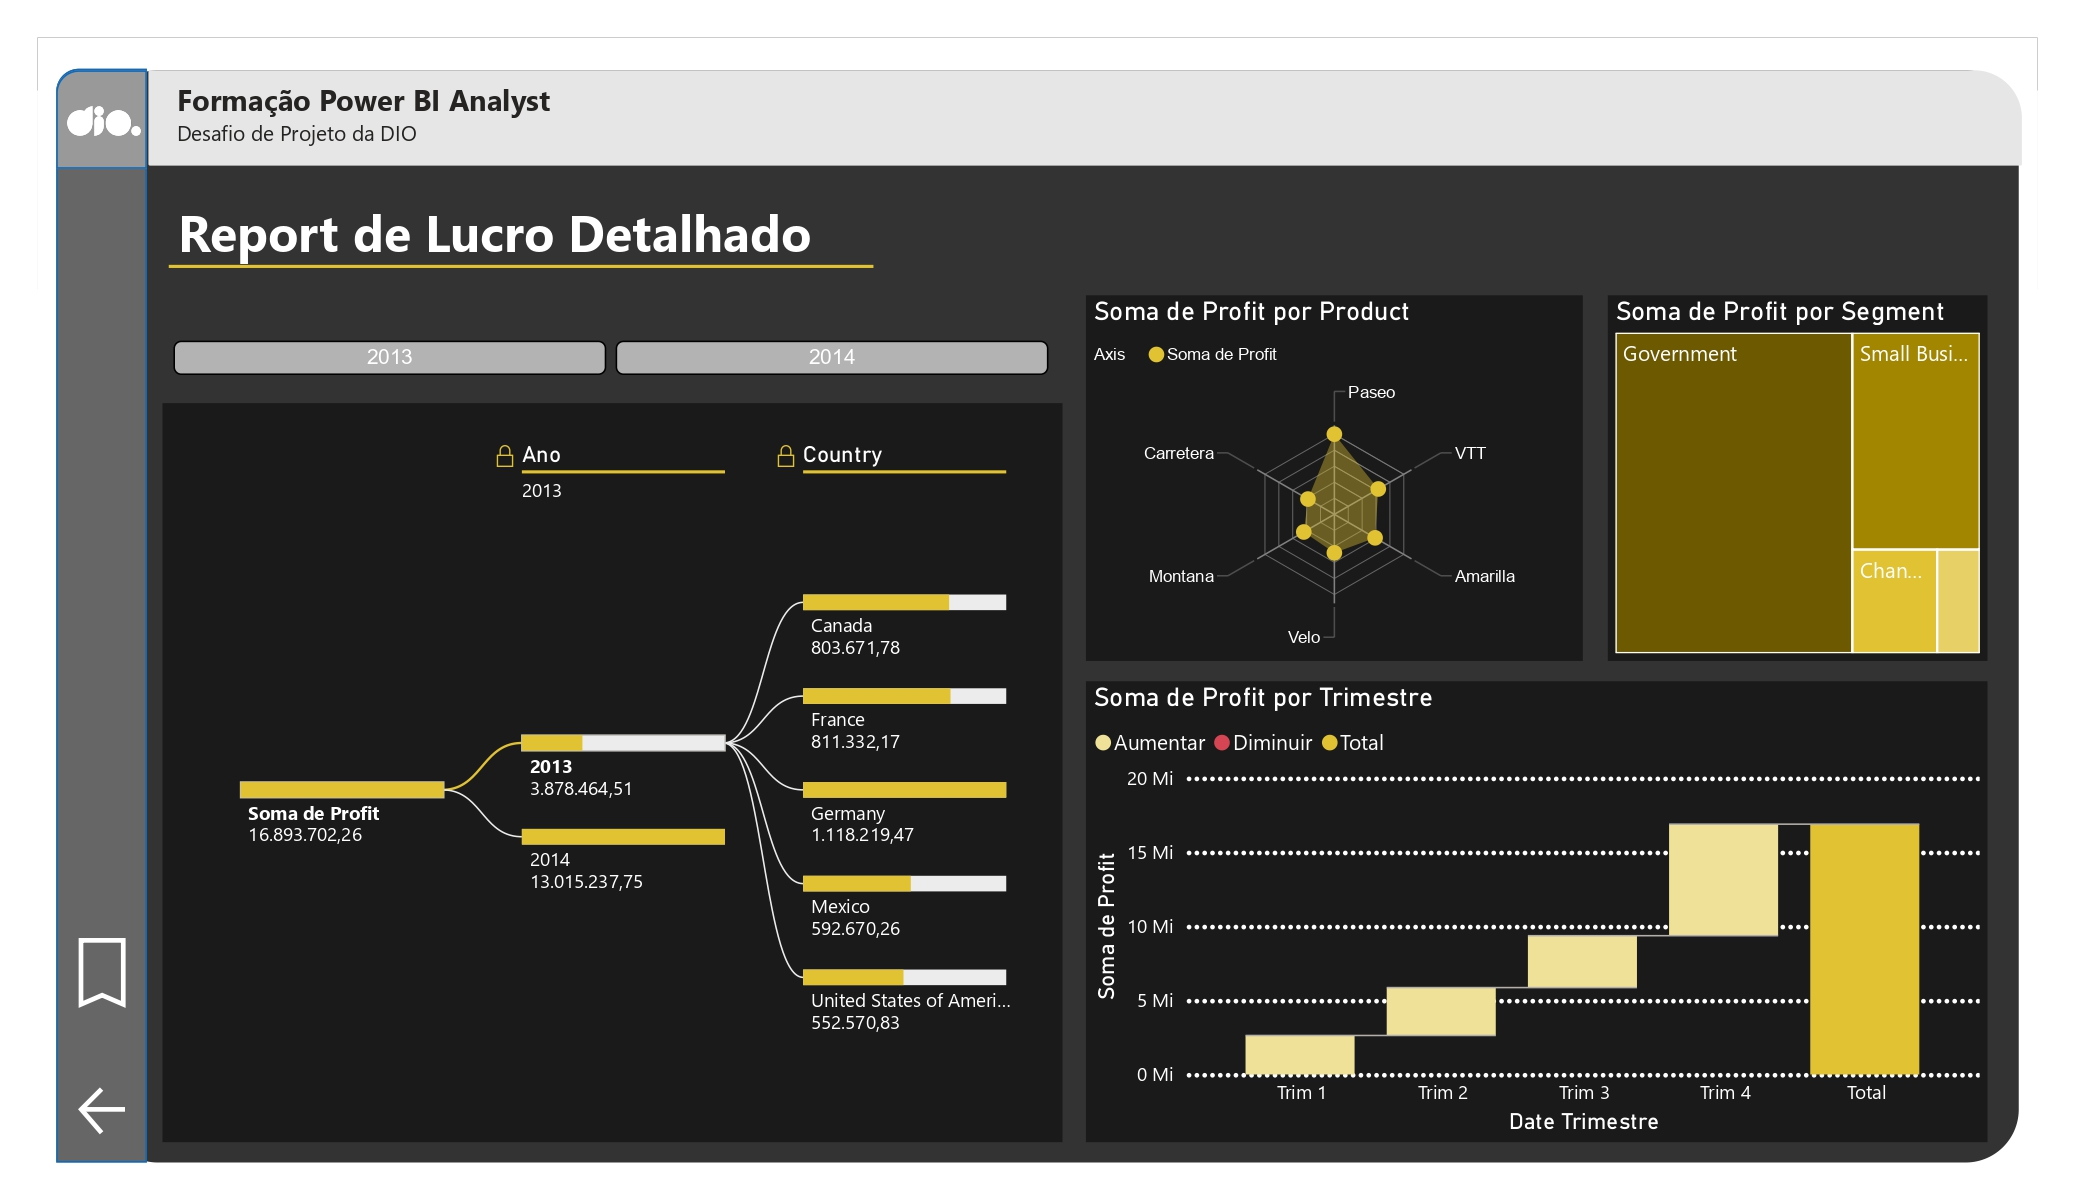

The page's visual inventory and layout, read from the dashboard file:
{"tool":"powerbi","page":{"name":"Página 2","canvas":[1280,720],"ordinal":1},"visuals":[{"type":"shape","box":[42.6,20.7,1225.3,699.3],"z":0},{"type":"shape","box":[83.7,128.1,451.2,37.7],"z":0,"group":"g1"},{"type":"shape","box":[12.4,20.2,57.7,699.8],"z":1000},{"type":"textbox","box":[85,97.4,448.5,53],"z":1000,"group":"g1"},{"type":"shape","box":[12.4,20.6,57.7,63.2],"z":2000},{"type":"image","box":[13.7,33,57.7,39.9],"z":3000},{"type":"shape","title":"Fundo do Título","box":[71.5,20.6,1198.9,61.9],"z":4000},{"type":"textbox","title":"Título do report","box":[83.9,22,378.1,63.2],"z":5000},{"type":"shape","box":[79.7,233.7,576.1,473],"z":6000},{"type":"decompositionTreeVisual","fields":{"Analyze":["Sum(financials.Profit)"],"ExplainBy":["financials.Date.Variation.Hierarquia de datas.Ano","financials.Country"]},"box":[99.8,242.2,536.3,456.5],"z":7000},{"type":"waterfallChart","fields":{"Category":["financials.Date.Variation.Hierarquia de datas.Trimestre"],"Y":["Sum(financials.Profit)"]},"box":[670.9,412.5,577.4,294.2],"z":8000},{"type":"ChicletSlicer1448559807354","fields":{"Category":["financials.Date.Variation.Hierarquia de datas.Ano"]},"box":[78.6,186.3,575.9,47.9],"z":9000},{"type":"RadarChart1446119667547","fields":{"Category":["financials.Product"],"Y":["Sum(financials.Profit)"]},"box":[670.9,165,317.6,233.7],"z":10000},{"type":"treemap","fields":{"Values":["Sum(financials.Profit)"],"Group":["financials.Segment"]},"box":[1005,165,243.4,233.7],"z":11000},{"type":"actionButton","box":[22,666.8,48.1,39.9],"z":12000},{"type":"group","id":"g1","title":"Sales report","box":[83.7,97.4,449.5,68.4],"z":13000},{"type":"actionButton","box":[12.8,545.8,57,105.5],"z":14000}]}

Visuals, with their boxes on the page's 1280x720 design canvas (x1, y1, x2, y2). These are canvas units, not pixel positions in the 2075x1200 screenshot, which may show the page scaled, cropped or inside an application window:
shape: BBox(43, 21, 1268, 720)
shape: BBox(84, 128, 535, 166)
shape: BBox(12, 20, 70, 720)
textbox: BBox(85, 97, 534, 150)
shape: BBox(12, 21, 70, 84)
image: BBox(14, 33, 71, 73)
"Fundo do Título" shape: BBox(72, 21, 1270, 82)
"Título do report" textbox: BBox(84, 22, 462, 85)
shape: BBox(80, 234, 656, 707)
decompositionTreeVisual - Sum(financials.Profit) x financials.Date.Variation.Hierarquia de datas.Ano: BBox(100, 242, 636, 699)
waterfallChart - financials.Date.Variation.Hierarquia de datas.Trimestre x Sum(financials.Profit): BBox(671, 412, 1248, 707)
ChicletSlicer1448559807354 - financials.Date.Variation.Hierarquia de datas.Ano: BBox(79, 186, 654, 234)
RadarChart1446119667547 - financials.Product x Sum(financials.Profit): BBox(671, 165, 988, 399)
treemap - Sum(financials.Profit) x financials.Segment: BBox(1005, 165, 1248, 399)
actionButton: BBox(22, 667, 70, 707)
"Sales report" group: BBox(84, 97, 533, 166)
actionButton: BBox(13, 546, 70, 651)
